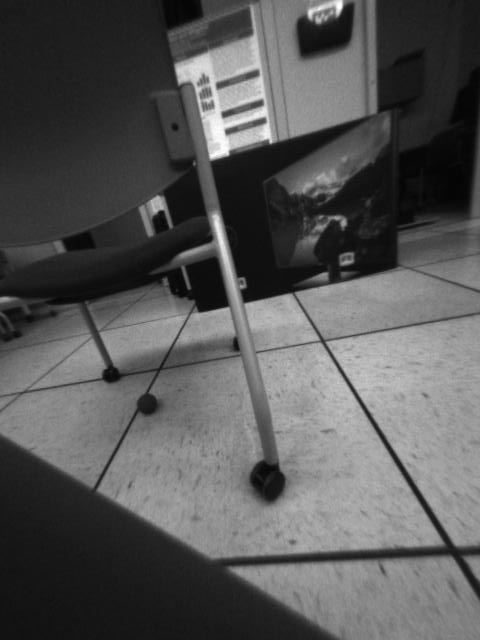dogtoy: (134, 385, 163, 419)
